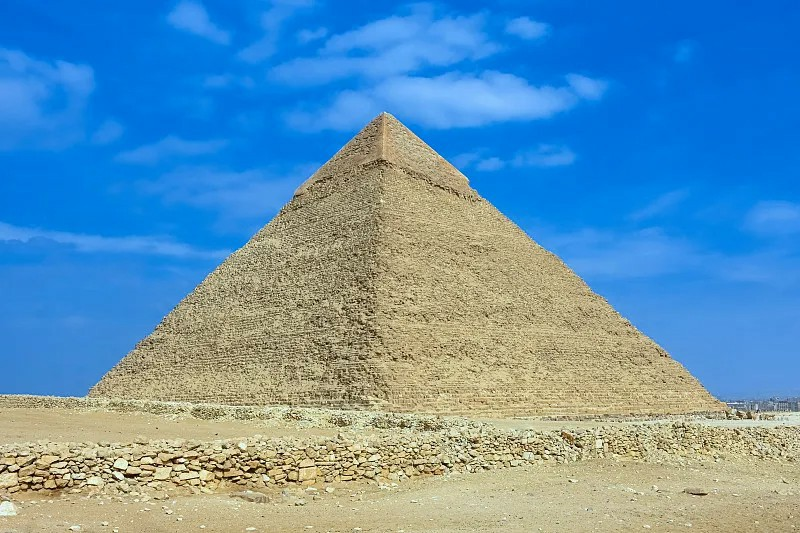Pyramid: (84, 111, 731, 419)
